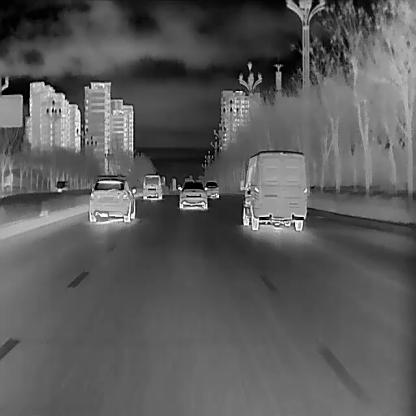car: (238, 150, 307, 230), (87, 173, 136, 222), (177, 180, 207, 209), (141, 172, 163, 199), (204, 180, 219, 198), (54, 180, 68, 194)
